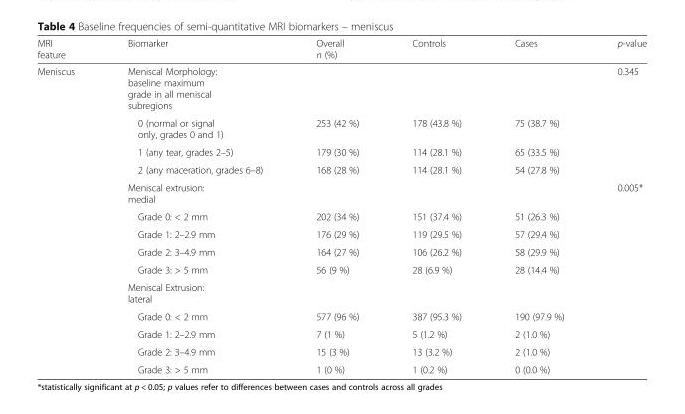table: (36, 37, 646, 374)
table column: (100, 37, 288, 374), (384, 37, 487, 374), (487, 37, 590, 374), (288, 37, 384, 374), (36, 37, 100, 374), (590, 37, 646, 374)
table column header: (36, 37, 646, 62)
table row: (36, 62, 646, 113), (36, 113, 646, 142), (36, 178, 646, 207), (36, 278, 646, 307), (36, 37, 646, 62), (36, 142, 646, 160), (36, 160, 646, 178), (36, 207, 646, 225), (36, 242, 646, 260), (36, 260, 646, 278), (36, 324, 646, 342), (36, 342, 646, 360), (36, 225, 646, 242), (36, 307, 646, 324), (36, 360, 646, 374)
table spanning cell: (36, 62, 100, 374)
